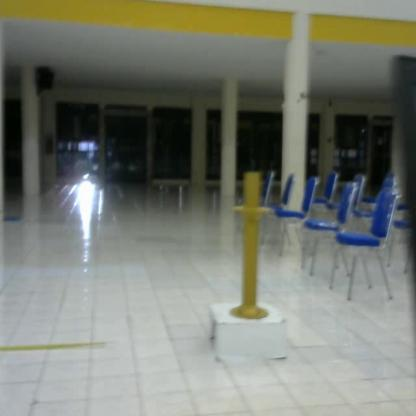pole: (229, 169, 274, 325)
